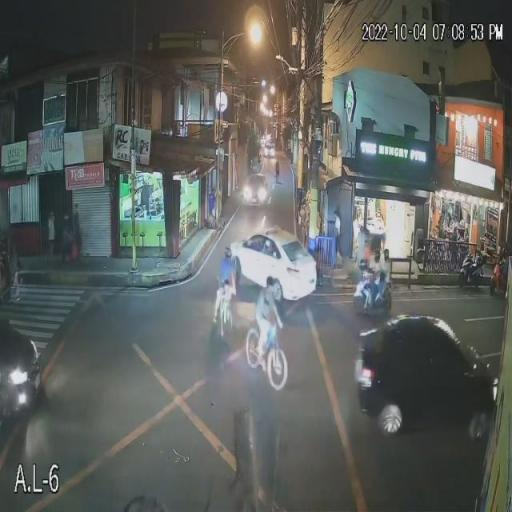helmet: (374, 248, 382, 264), (383, 248, 390, 262)
motorcycle: (352, 276, 395, 312)
rider: (379, 262, 391, 296), (373, 264, 382, 293)
